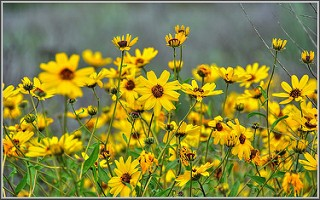flower: (38, 51, 96, 102), (134, 69, 181, 114), (25, 131, 84, 166), (272, 73, 318, 108), (107, 155, 142, 197), (177, 78, 224, 103), (120, 45, 162, 71), (233, 61, 269, 88)
